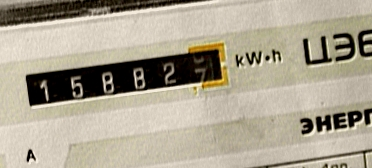1: (39, 76, 54, 103)
2: (161, 59, 181, 86)
5: (69, 73, 87, 100)
7: (193, 64, 210, 83)
8: (100, 68, 119, 95), (132, 64, 150, 91)
screen: (16, 36, 240, 121)
